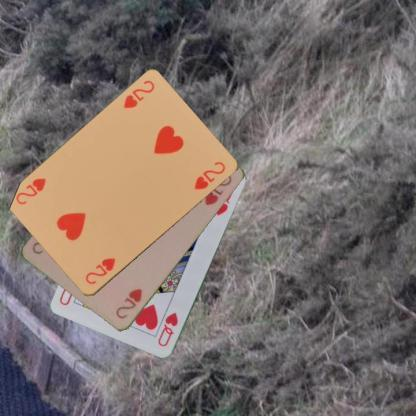2h: (120, 78, 156, 110), (113, 286, 144, 321), (82, 256, 116, 286)
Qh: (155, 310, 180, 348)
